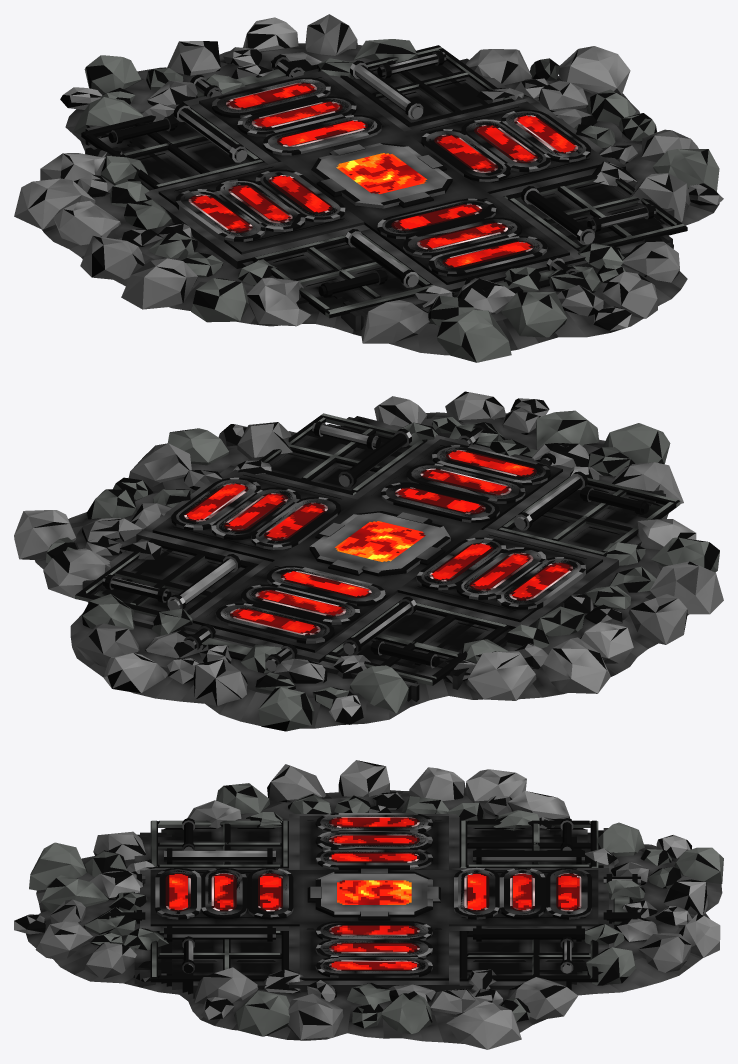
The model's file is l1bld-cross-pad.glb.
3 renders of one model, top to bottom at view 1: azimuth 30°, elevation 25°; view 2: azimuth 150°, elevation 25°; view 3: azimuth 270°, elevation 25°, orthographic. The views are drawn at different scales.
Parts seen in each view (by area): view 1: shapesz-l1bld-cross-pad-parts, shapesz-l1bld-cross-pad-deck, shapesz-l1bld-cross-pad-marble; view 2: shapesz-l1bld-cross-pad-parts, shapesz-l1bld-cross-pad-deck, shapesz-l1bld-cross-pad-marble; view 3: shapesz-l1bld-cross-pad-parts, shapesz-l1bld-cross-pad-deck, shapesz-l1bld-cross-pad-marble.
Part boxes in pixels (<box>): shapesz-l1bld-cross-pad-parts: <box>14,14,723,362</box>; shapesz-l1bld-cross-pad-deck: <box>85,58,674,331</box>; shapesz-l1bld-cross-pad-marble: <box>191,83,575,267</box>; shapesz-l1bld-cross-pad-parts: <box>14,391,723,731</box>; shapesz-l1bld-cross-pad-deck: <box>82,416,665,701</box>; shapesz-l1bld-cross-pad-marble: <box>186,450,570,633</box>; shapesz-l1bld-cross-pad-parts: <box>14,760,723,1049</box>; shapesz-l1bld-cross-pad-deck: <box>134,814,614,998</box>; shapesz-l1bld-cross-pad-marble: <box>169,817,579,969</box>.
Size of the model in its own units: 9.81 by 0.5343 by 11.1.
28 materials, 28 textured.
